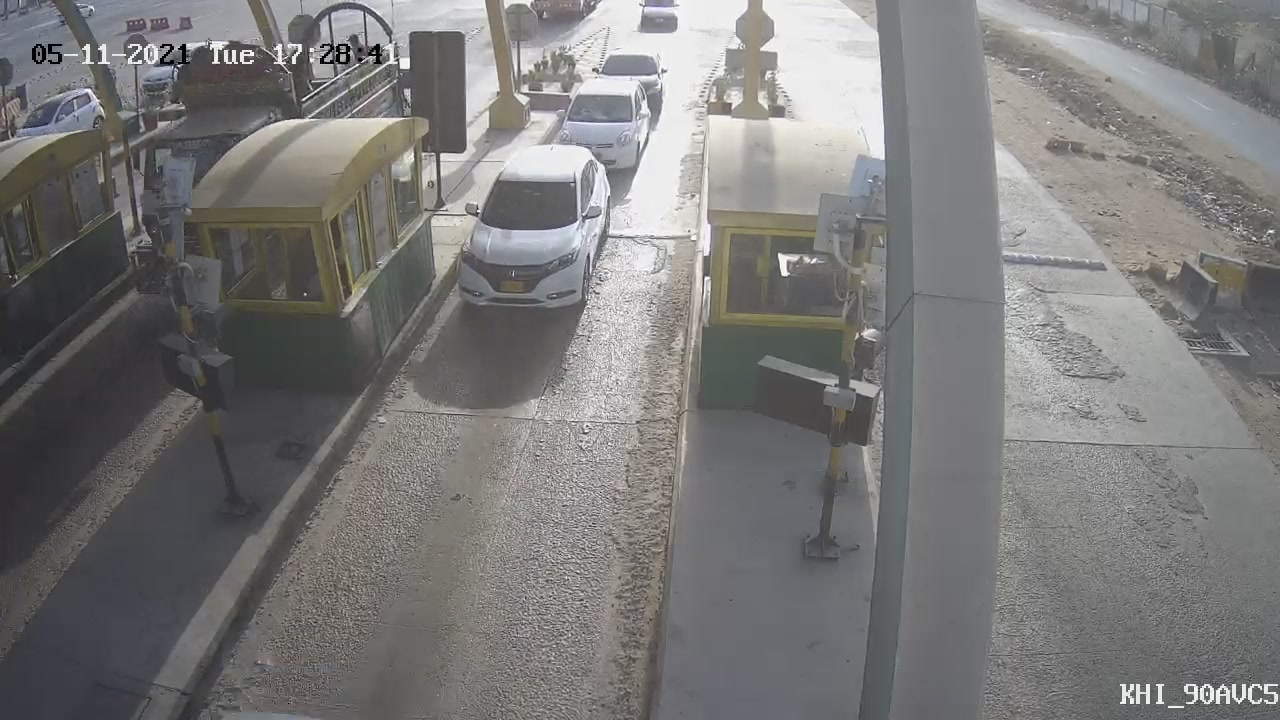F1: (443, 133, 633, 338), (543, 61, 663, 187)
